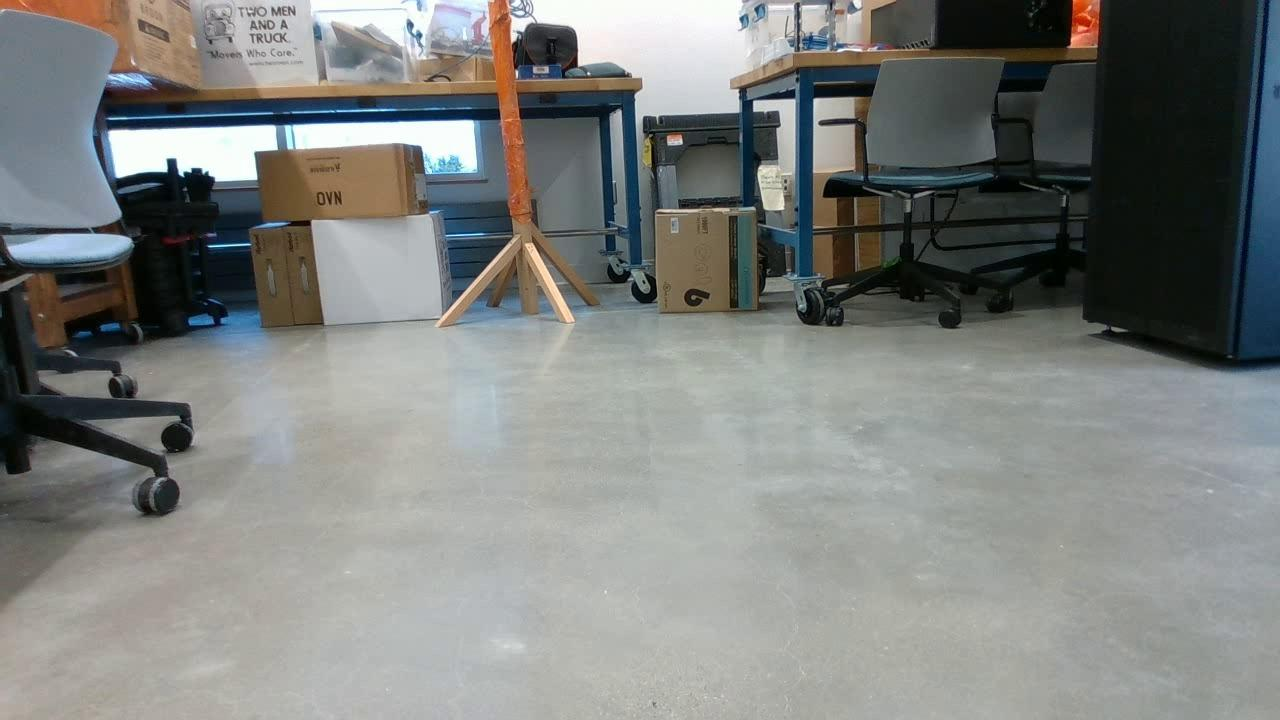grasshopper: (871, 250, 902, 275)
